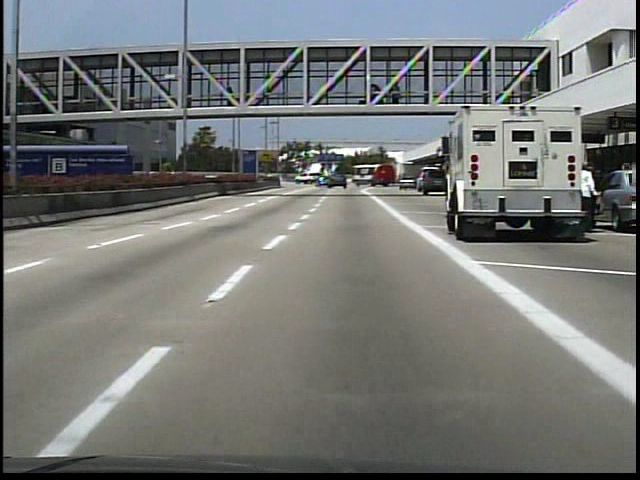person: (578, 156, 599, 231)
